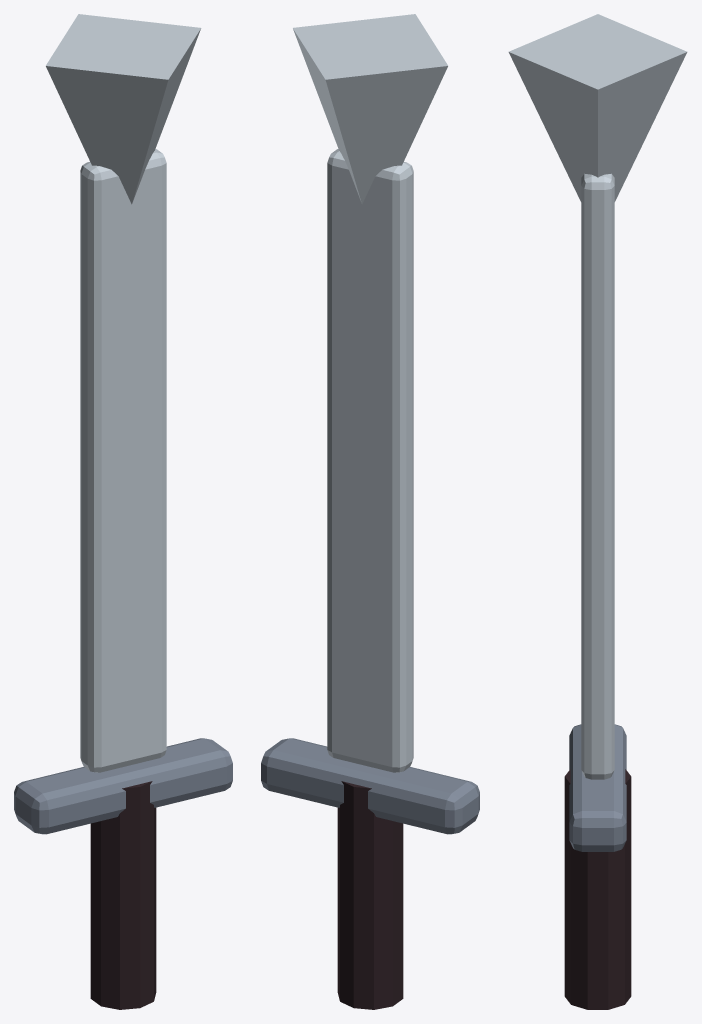
Rendered from TrainingSword.fbx.
3 views of the same model, side by side, from view 1: azimuth 30°, elevation 25°; view 2: azimuth 150°, elevation 25°; view 3: azimuth 270°, elevation 25° (orthographic).
Parts seen in each view (by area): view 1: SwordBlade, SwordTip, SwordGrip, SwordGuard; view 2: SwordBlade, SwordTip, SwordGrip, SwordGuard; view 3: SwordBlade, SwordTip, SwordGrip, SwordGuard.
Part boxes in pixels (x1=…): SwordBlade: x1=80, y1=149, x2=166, y2=772; SwordTip: x1=46, y1=14, x2=201, y2=204; SwordGrip: x1=90, y1=781, x2=156, y2=1009; SwordGuard: x1=14, y1=738, x2=232, y2=834; SwordBlade: x1=327, y1=149, x2=413, y2=772; SwordTip: x1=293, y1=14, x2=447, y2=204; SwordGrip: x1=337, y1=781, x2=403, y2=1009; SwordGuard: x1=261, y1=738, x2=479, y2=834; SwordBlade: x1=581, y1=173, x2=614, y2=779; SwordTip: x1=508, y1=14, x2=687, y2=201; SwordGrip: x1=564, y1=769, x2=631, y2=1009; SwordGuard: x1=569, y1=724, x2=626, y2=851.
Size of the model in its own units: 0.18 by 0.815 by 0.14.
